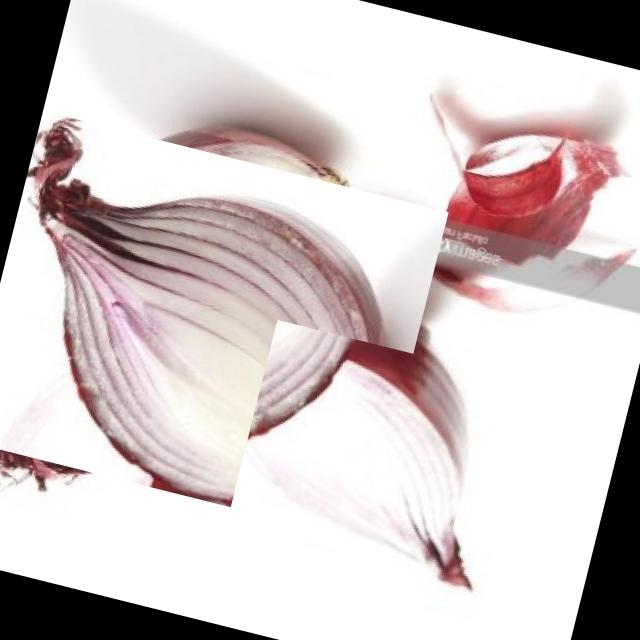Onion: (0, 84, 427, 562), (227, 320, 538, 588)
